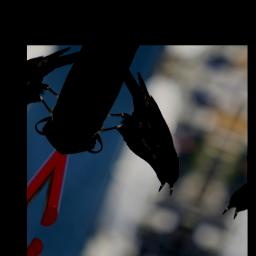Crow: (76, 65, 218, 199)
